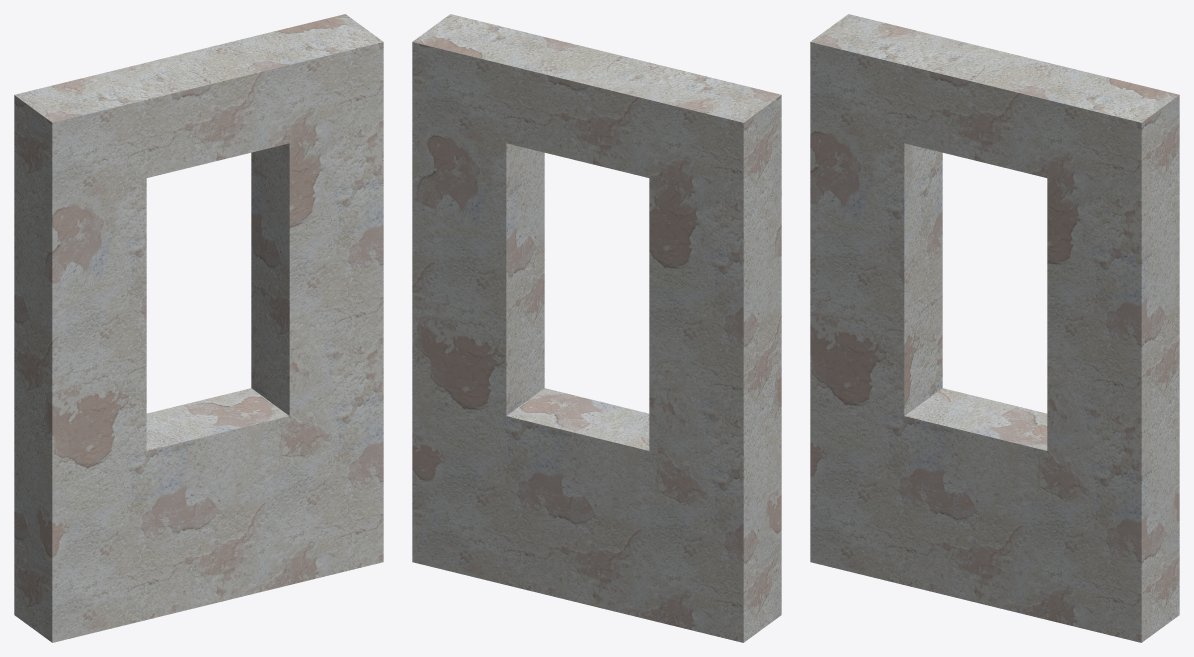
Rendered from terminal_window_wall_01.glb.
3 renders of one model, left to right at view 1: azimuth 30°, elevation 25°; view 2: azimuth 150°, elevation 25°; view 3: azimuth 330°, elevation 25°, orthographic.
Visible parts, largest first — view 1: Cube; view 2: Cube; view 3: Cube.
Part boxes in pixels (bbox=[...]): Cube: bbox=[14, 14, 383, 642]; Cube: bbox=[412, 14, 781, 642]; Cube: bbox=[810, 14, 1179, 642].
Size of the model in its own units: 4 by 6 by 0.8.
1 material, 1 textured.
